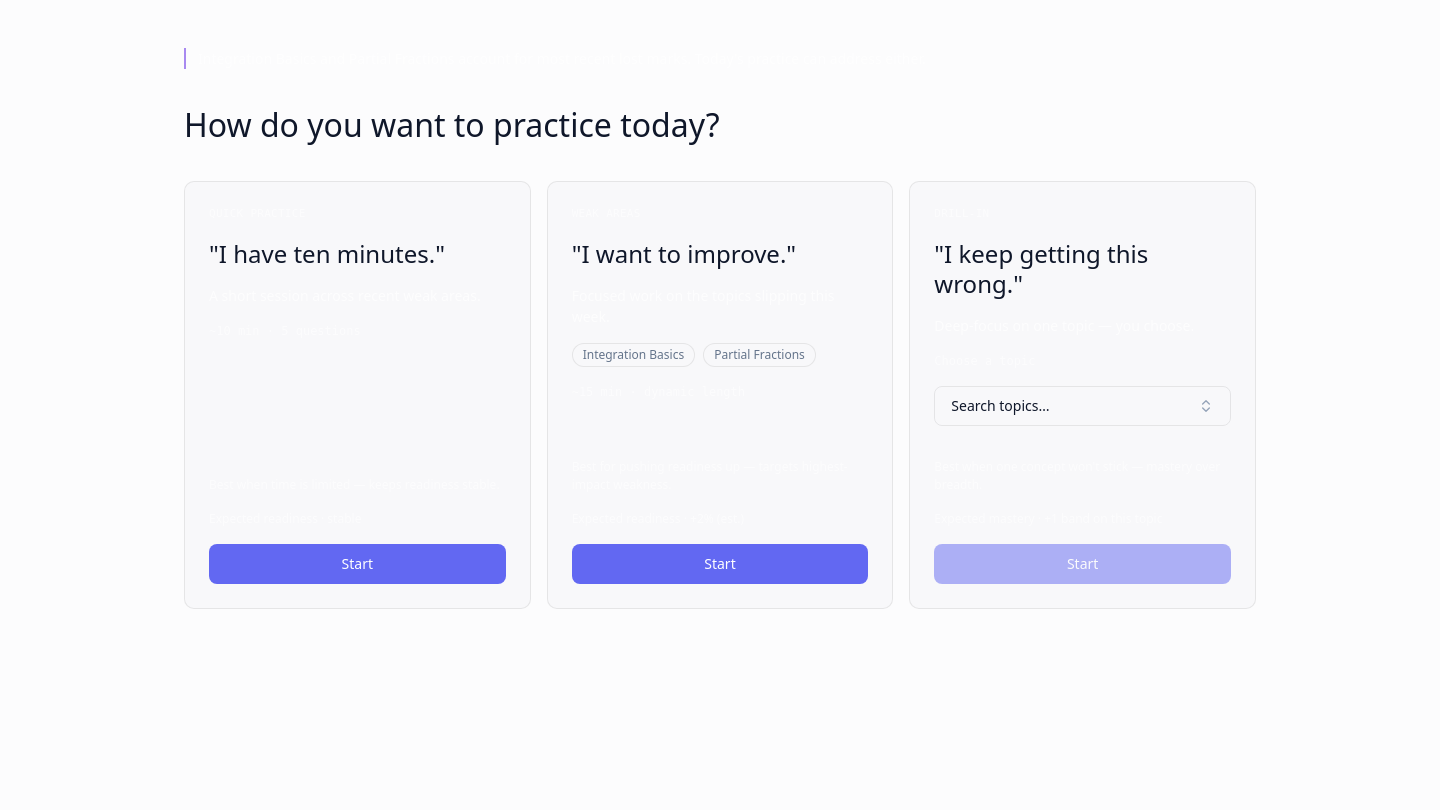
Test: PracticeLanding › Drill-In Start disabled until topic chosen
Expected: the button "Start" below "Expected mastery · +1 band on this topic" is disabled, [934,544,1231,584]
Open the combobox
Click the dropdown.
click(1000, 406)  # box [934,386,1231,426]
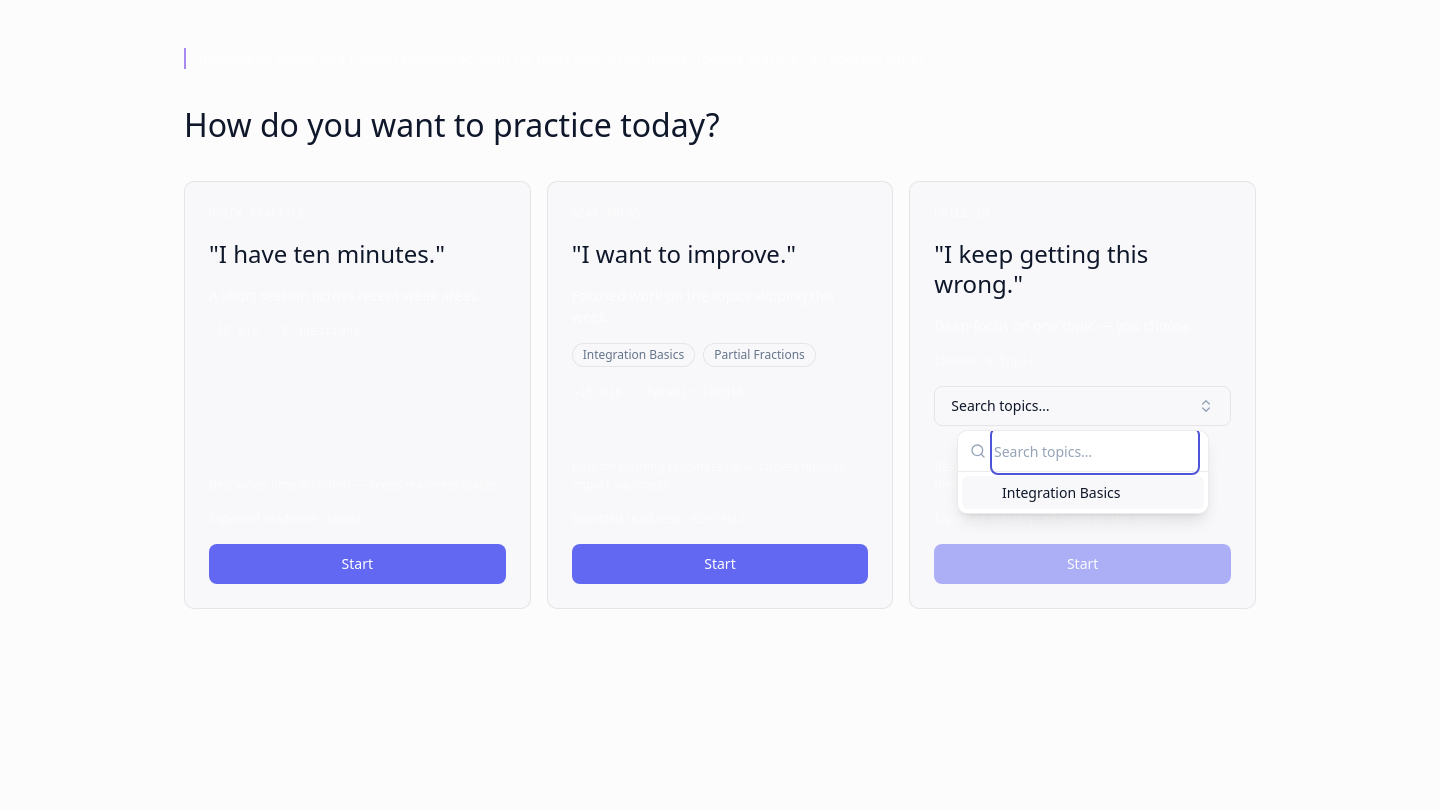
Click the option "Integration Basics".
click(1083, 492)  # box [962,476,1204,509]
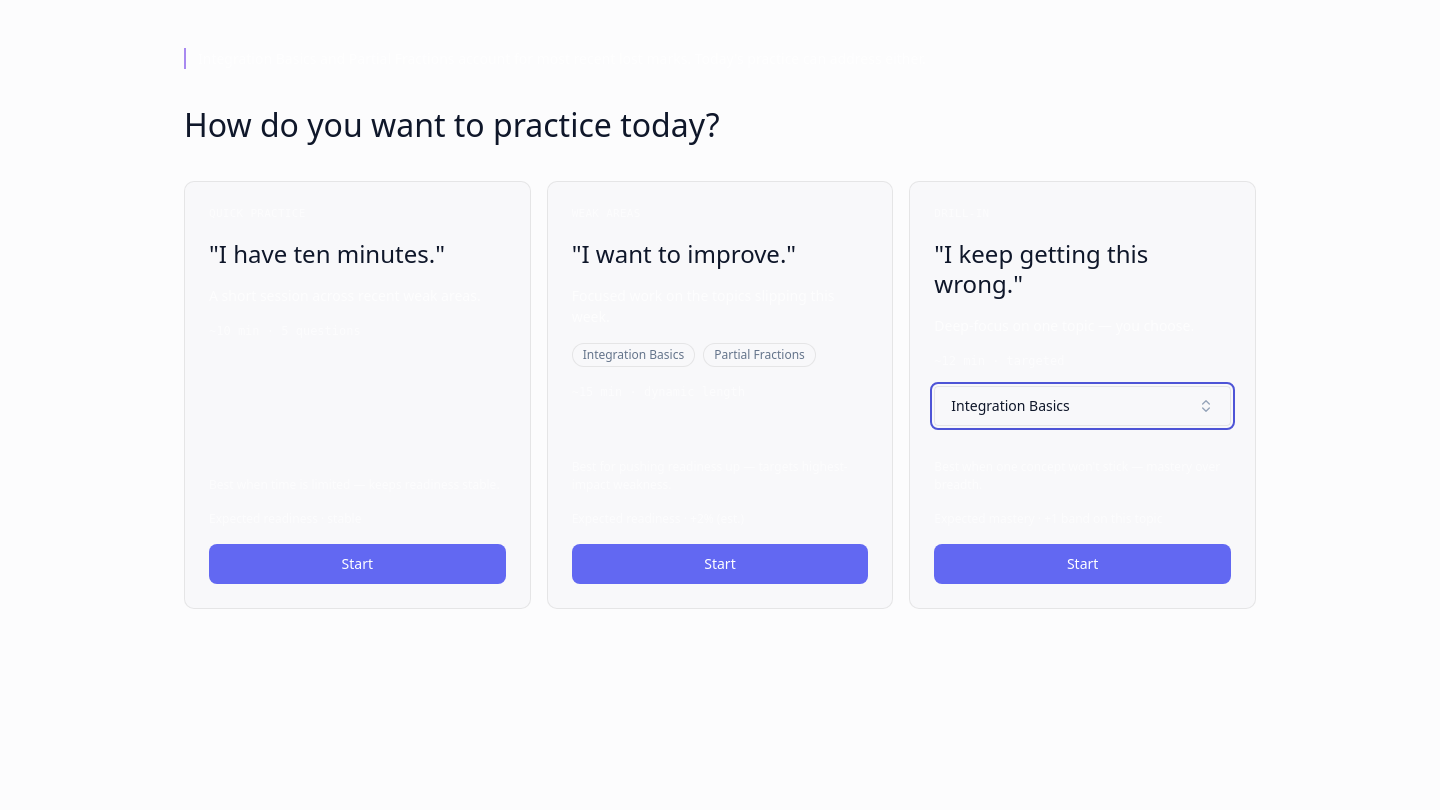
Expected: the button "Start" below "Expected mastery · +1 band on this topic" is enabled, [934,544,1231,584]
